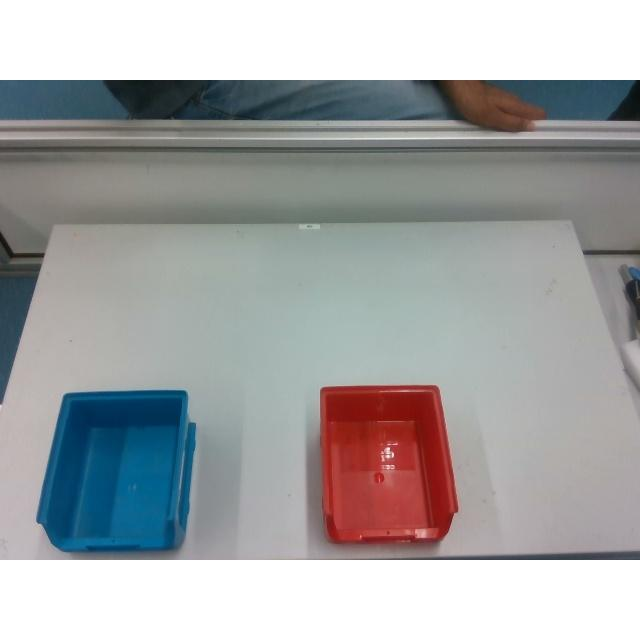container_box_blue: (36, 388, 196, 550)
container_box_red: (320, 386, 458, 542)
